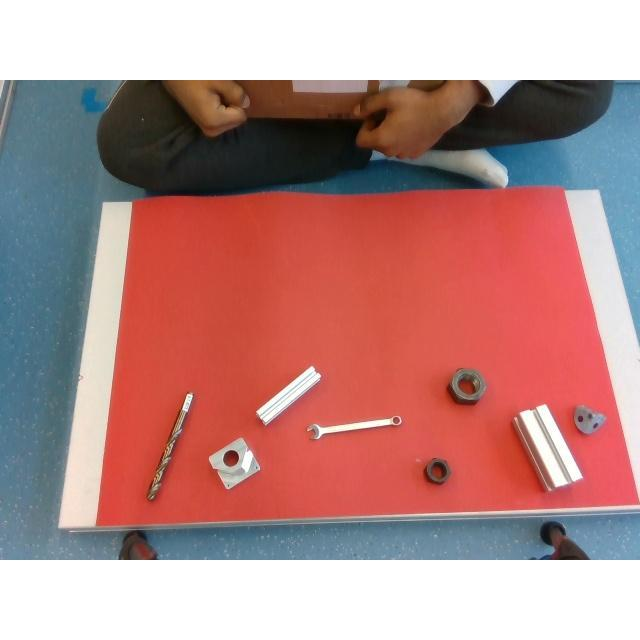Drill: (146, 392, 194, 500)
F20_20_G: (257, 366, 321, 426)
M20: (423, 456, 451, 484)
M30: (449, 368, 487, 404)
S40_40_G: (514, 404, 582, 490)
